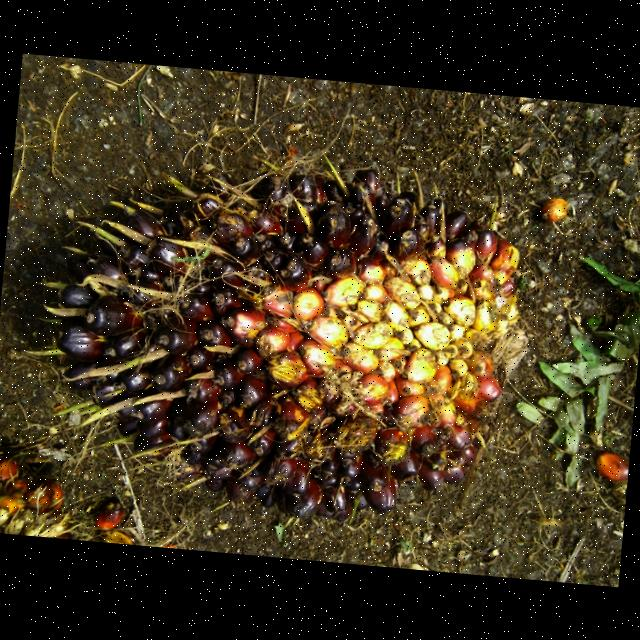Unripe: (49, 166, 526, 525)
